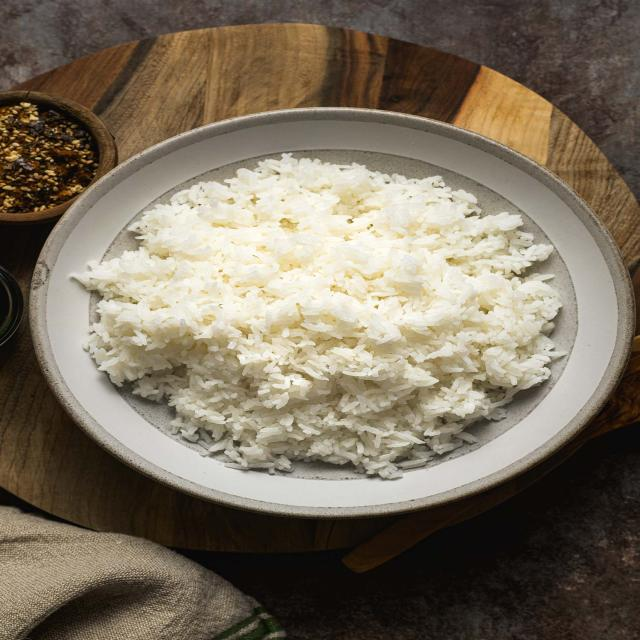rice: (77, 158, 574, 479)
